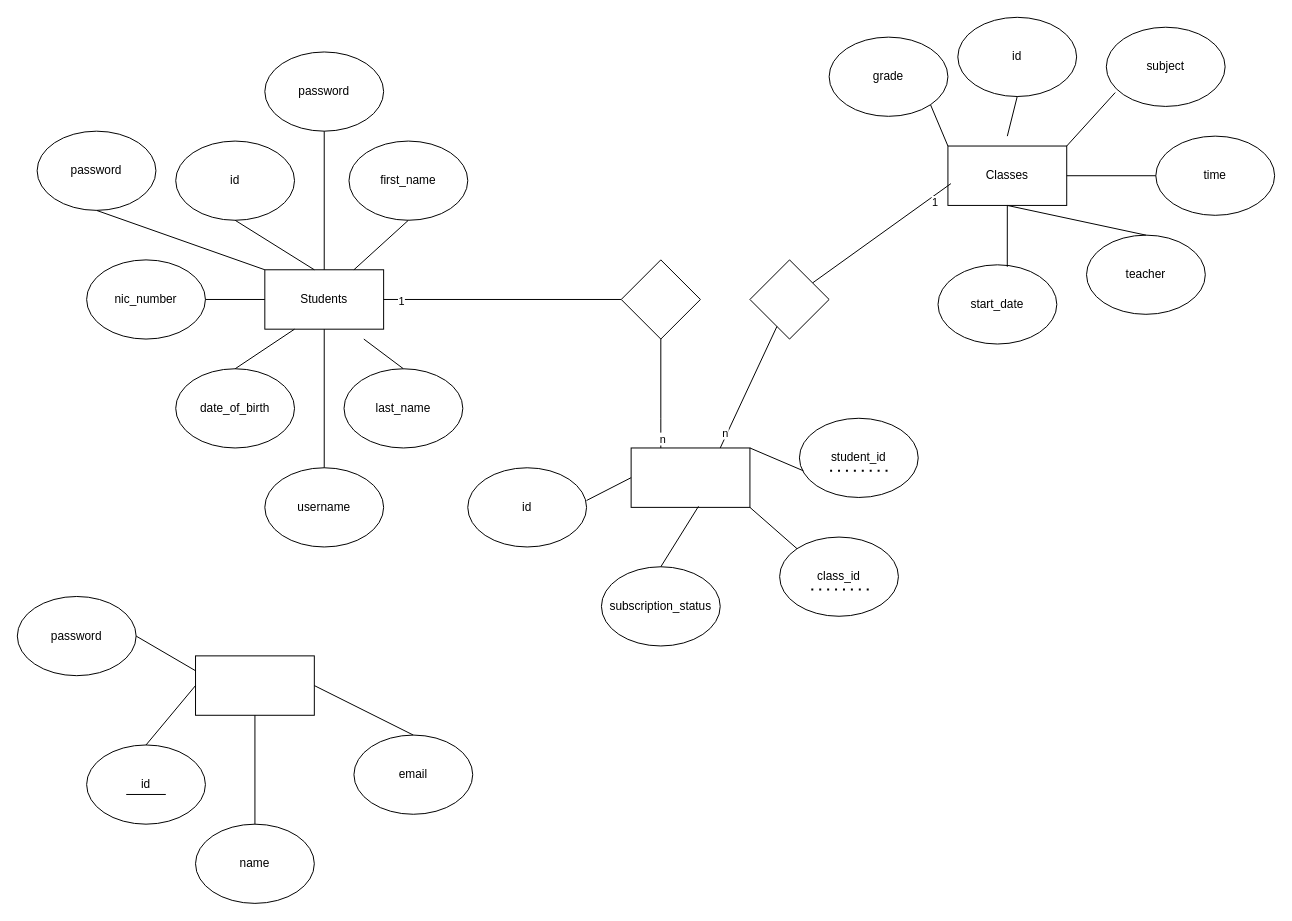
Image size: 1292x921. Some labels were removed from this diagram. The box of each missing label's shape, as (x1, y1, x2, y2) in pixels:
admin: (195, 655, 314, 715)
have: (749, 259, 829, 339)
manage: (620, 259, 700, 339)
subscriptions: (630, 447, 750, 507)
